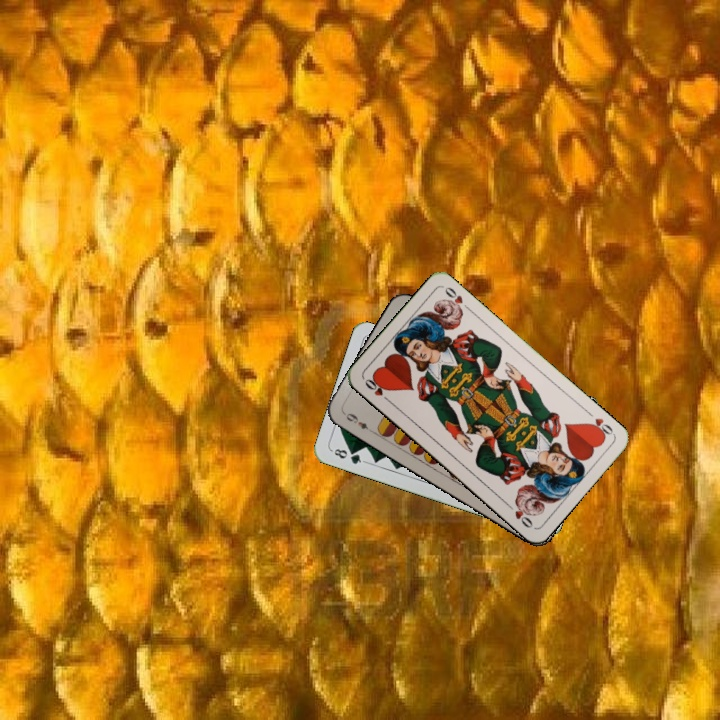E9: (339, 409, 376, 435)
G8: (328, 444, 367, 467)
HO: (583, 407, 616, 441), (360, 373, 394, 405)
